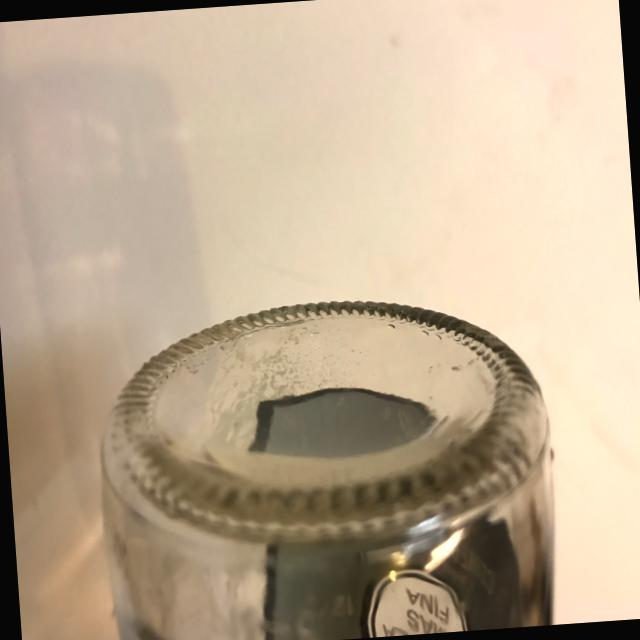Glass: (79, 270, 576, 640)
